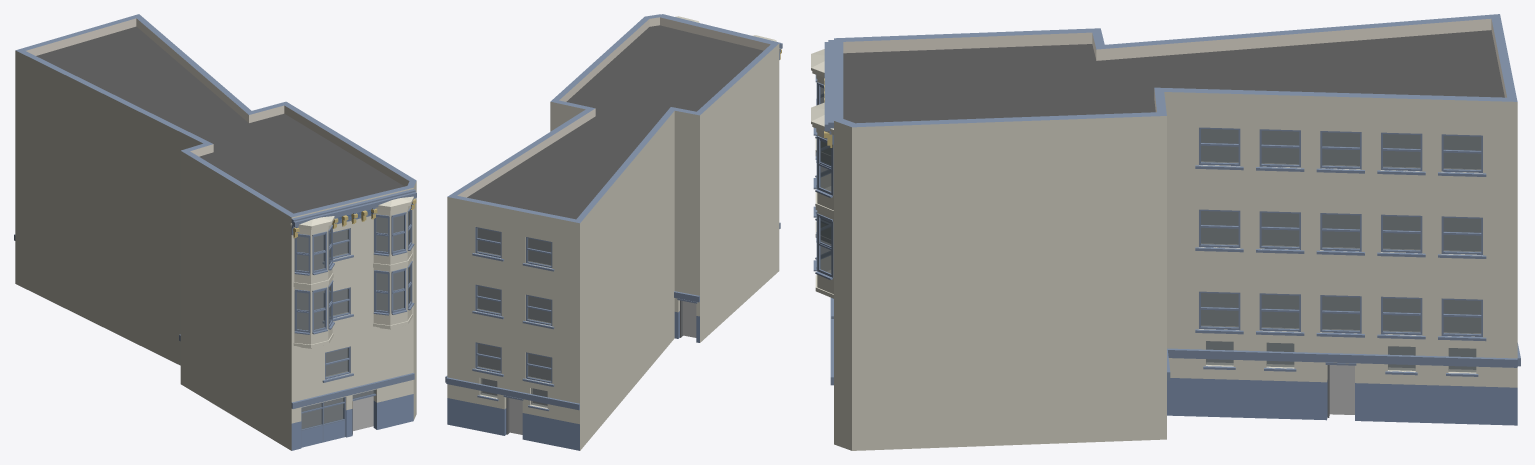
The model's file is exterior.glb.
3 views of the same model, side by side, from view 1: azimuth 30°, elevation 25°; view 2: azimuth 150°, elevation 25°; view 3: azimuth 270°, elevation 25° (orthographic). The views are drawn at different scales.
Visible parts, largest first — view 1: shell, roof, bay-glazing-hyb, shadow-proxy, bay-windows-hyb, trim, glazing, storefront, frames, front-dressing-r4; view 2: shell, roof, shadow-proxy, glazing, trim, frames, storefront; view 3: shell, roof, glazing, shadow-proxy, trim, frames, bay-glazing-hyb, bay-windows-hyb.
Boxes of the visible parts, x1,y1,x2,y2 form: shell: [15, 14, 416, 450]; roof: [36, 26, 404, 213]; bay-glazing-hyb: [294, 206, 414, 334]; shadow-proxy: [297, 215, 403, 430]; bay-windows-hyb: [290, 196, 413, 348]; trim: [14, 189, 416, 408]; glazing: [301, 229, 375, 429]; storefront: [301, 389, 376, 447]; frames: [324, 228, 350, 379]; front-dressing-r4: [293, 198, 416, 238]; shell: [447, 14, 779, 450]; roof: [467, 25, 763, 219]; shadow-proxy: [478, 228, 696, 434]; glazing: [477, 228, 551, 407]; trim: [445, 14, 782, 411]; frames: [475, 227, 552, 383]; storefront: [503, 298, 697, 434]; shell: [834, 14, 1517, 450]; roof: [843, 30, 1504, 123]; glazing: [1201, 129, 1481, 372]; shadow-proxy: [1201, 129, 1480, 414]; trim: [824, 40, 1520, 385]; frames: [1199, 127, 1482, 336]; bay-glazing-hyb: [813, 75, 833, 279]; bay-windows-hyb: [811, 49, 833, 298].
Bounding box in the file's own units: 9.64 × 12.82 × 25.48.
